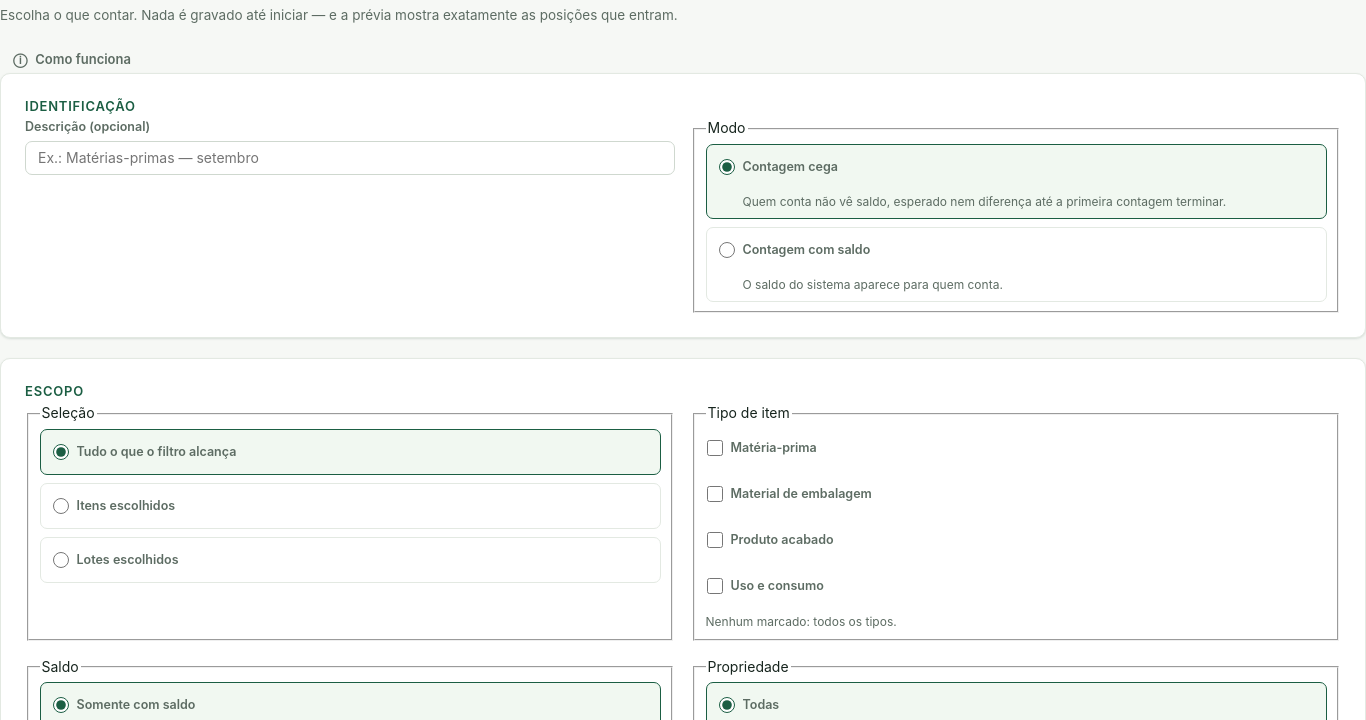
Test: novo inventário — prévia › abre em contagem cega e, cega, não mostra saldo nem se a resposta trouxer
Expected: the radio button labelled "Contagem cega" is checked, [718,159,734,175]
Click the radio button labelled "Contagem com saldo": (726, 250) [718,242,734,258]
(page scrolled)
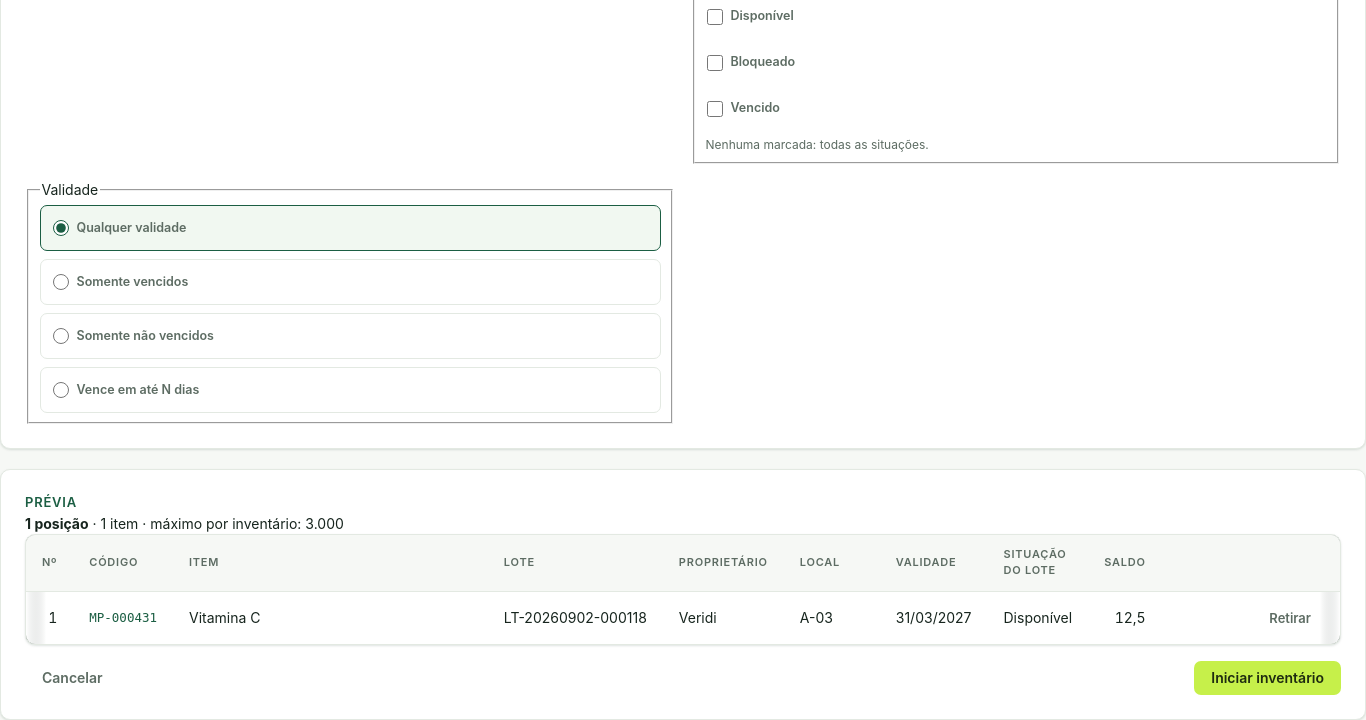
Result: the column heading "Saldo" is shown at [1088,535,1162,592]
Result: the text "12,5" is shown at [1088,592,1162,644]
